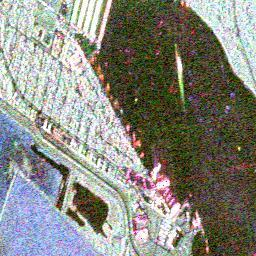Ship: (172, 50, 186, 82), (235, 143, 242, 154)
